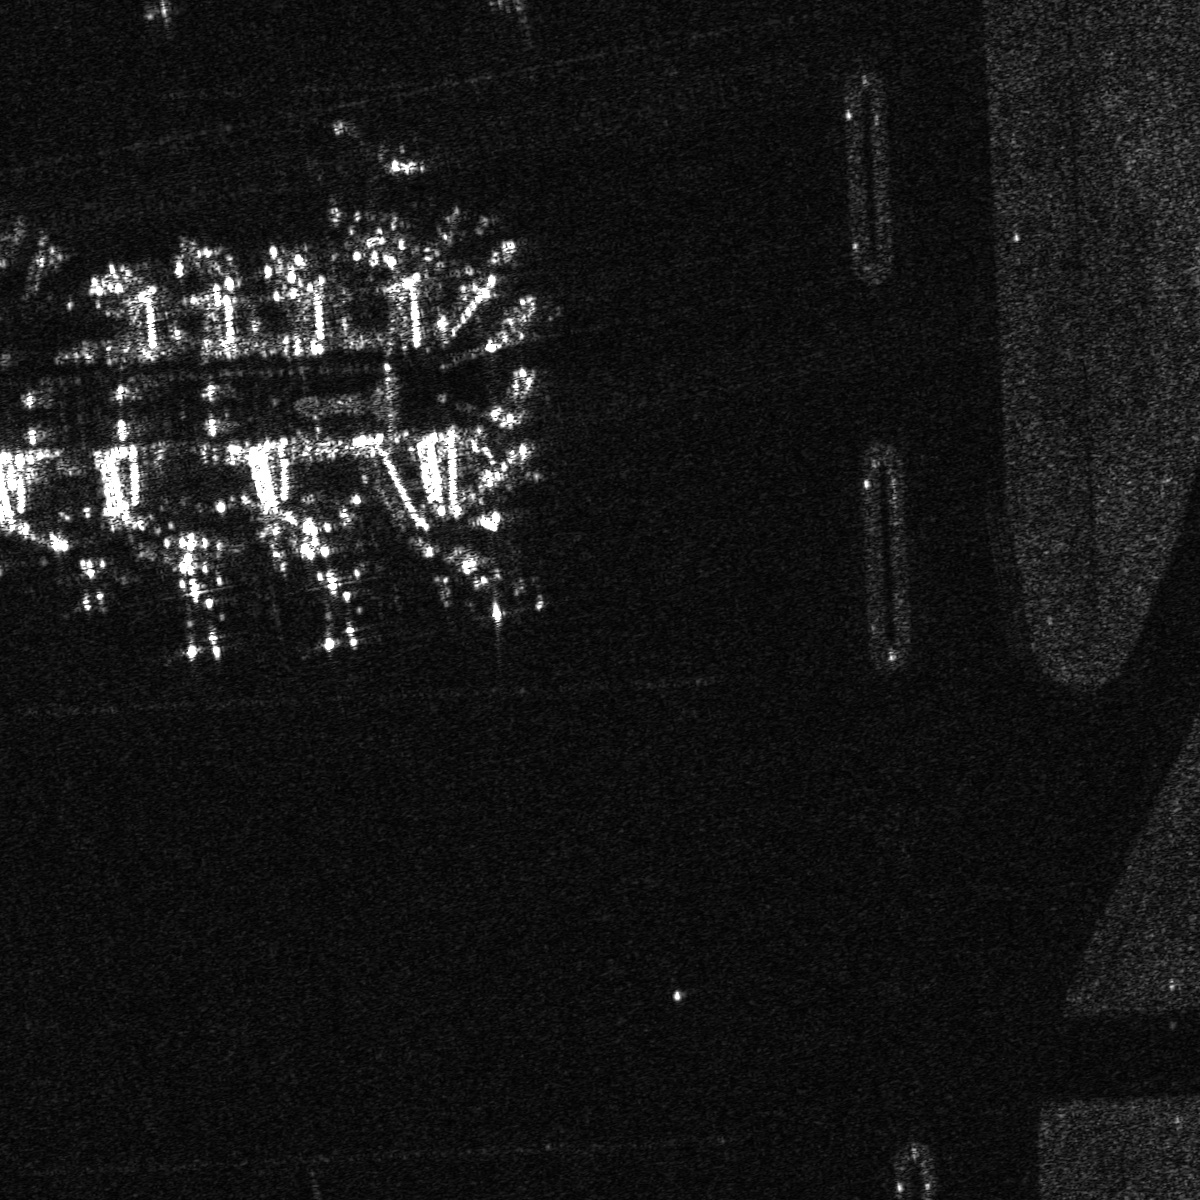A220: (299, 119, 442, 214)
Boeing737: (430, 538, 518, 635)
Boeing787: (138, 574, 244, 664)
other: (288, 562, 388, 659)
